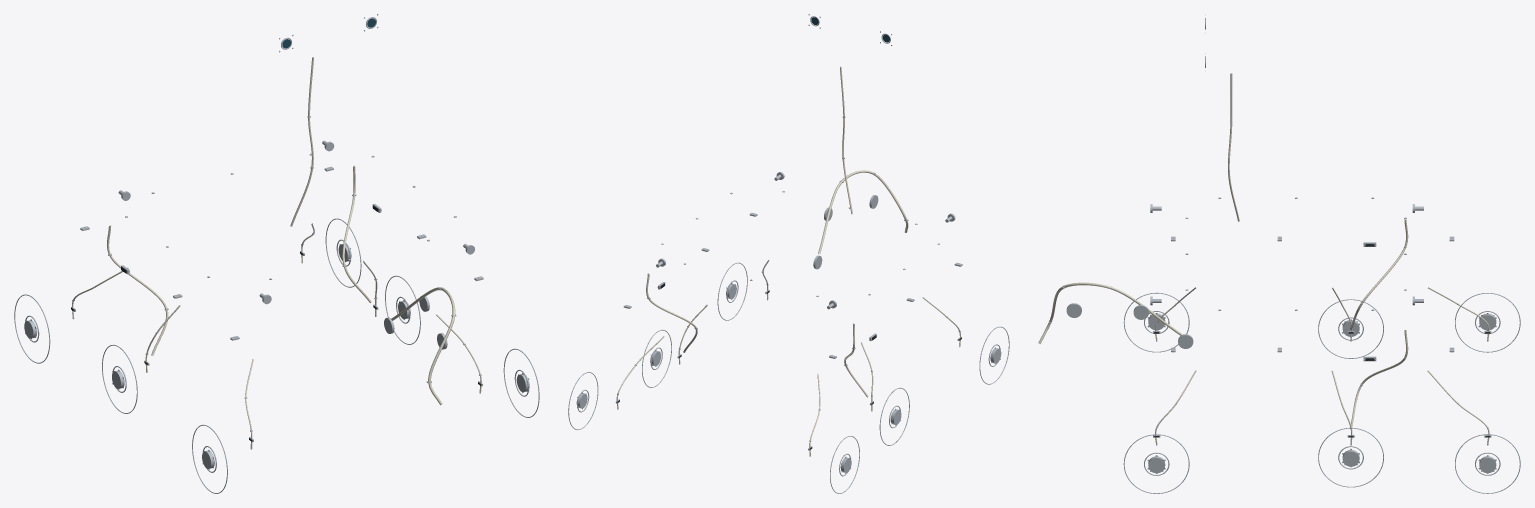
Rendered from mer-detail.glb.
The picture shows the model from 3 angles, left to right: view 1: azimuth 30°, elevation 25°; view 2: azimuth 150°, elevation 25°; view 3: azimuth 270°, elevation 25°; orthographic projection. The views are drawn at different scales.
Parts seen in each view (by area): view 1: DETAIL_WHEELS_Machined_aluminium, DETAIL_WHEELS_White_cable_sleeve, DETAIL_AVIONICS_White_cable_sleeve, DETAIL_ARM_White_cable_sleeve; view 2: DETAIL_WHEELS_Machined_aluminium, DETAIL_WHEELS_White_cable_sleeve, DETAIL_ARM_White_cable_sleeve; view 3: DETAIL_WHEELS_Machined_aluminium, DETAIL_WHEELS_White_cable_sleeve, DETAIL_AVIONICS_White_cable_sleeve, DETAIL_ARM_Machined_aluminium, DETAIL_ARM_White_cable_sleeve.
Boxes of the visible parts, left/top/right/bottom form: DETAIL_WHEELS_Machined_aluminium: left=14, top=218, right=539, bottom=493; DETAIL_WHEELS_White_cable_sleeve: left=72, top=223, right=481, bottom=449; DETAIL_AVIONICS_White_cable_sleeve: left=107, top=166, right=371, bottom=355; DETAIL_ARM_White_cable_sleeve: left=391, top=287, right=455, bottom=405; DETAIL_WHEELS_Machined_aluminium: left=568, top=262, right=1009, bottom=493; DETAIL_WHEELS_White_cable_sleeve: left=616, top=260, right=960, bottom=456; DETAIL_ARM_White_cable_sleeve: left=818, top=170, right=908, bottom=253; DETAIL_WHEELS_Machined_aluminium: left=1123, top=292, right=1520, bottom=493; DETAIL_WHEELS_White_cable_sleeve: left=1155, top=287, right=1489, bottom=445; DETAIL_AVIONICS_White_cable_sleeve: left=1350, top=219, right=1408, bottom=427; DETAIL_ARM_Machined_aluminium: left=1049, top=286, right=1193, bottom=348; DETAIL_ARM_White_cable_sleeve: left=1038, top=282, right=1182, bottom=343.
Bounding box in the file's own units: 1.26 × 1.54 × 1.77.
